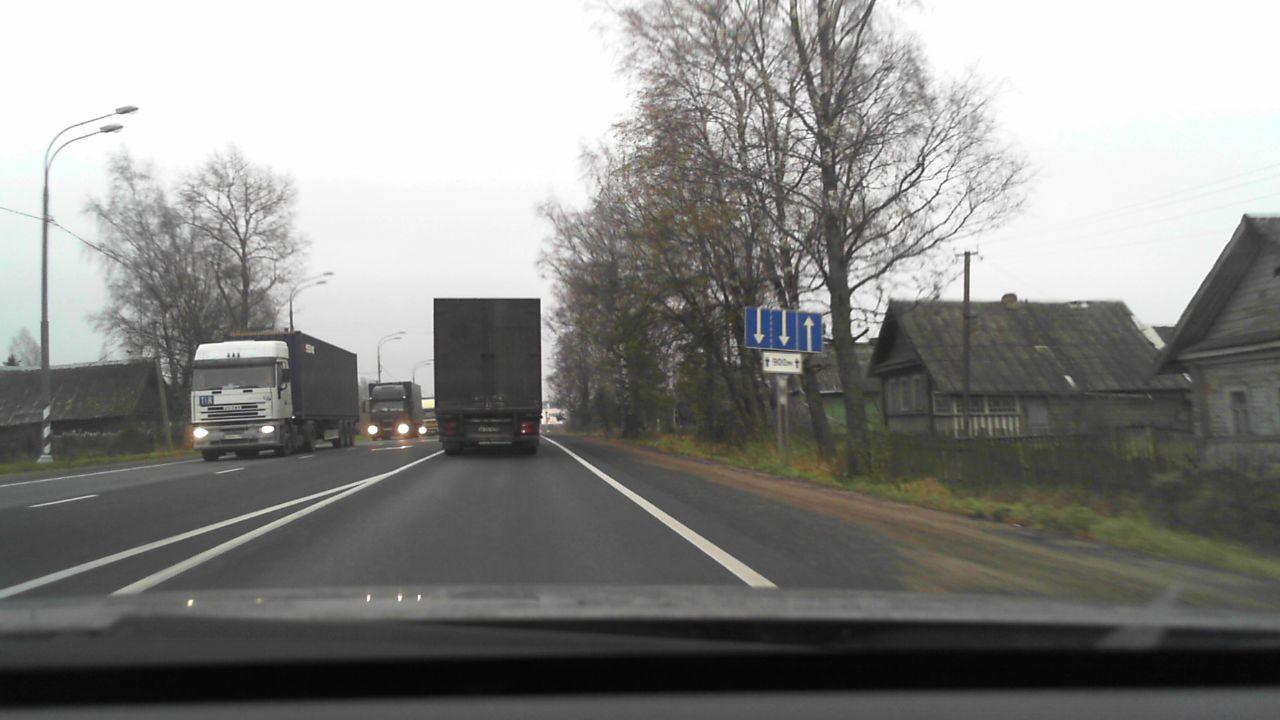5_15_7: (745, 304, 824, 354)
8_2_1: (762, 351, 802, 373)
